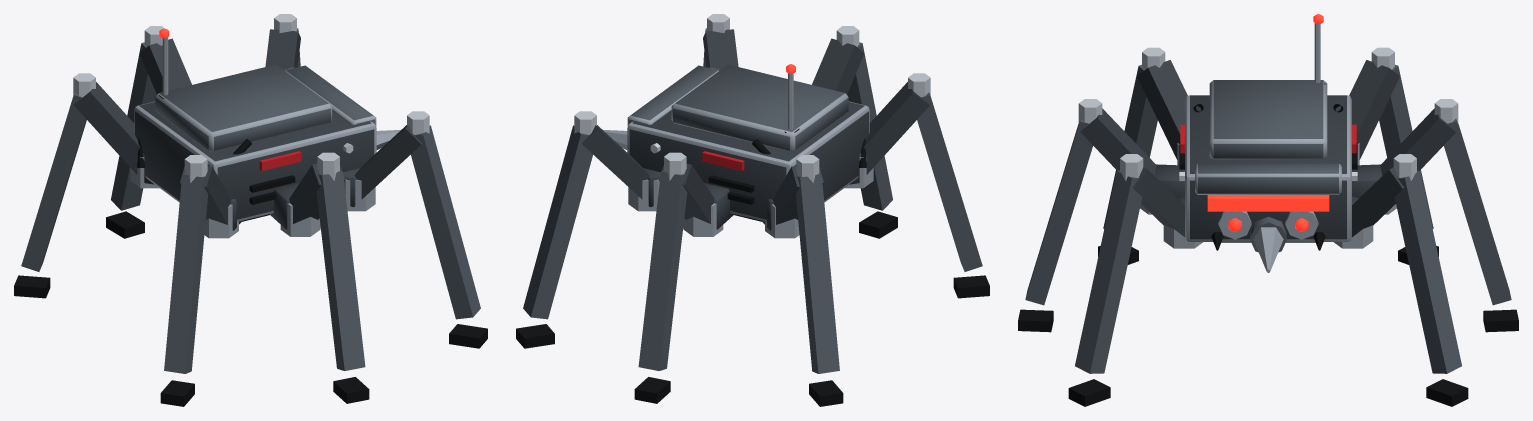
The model's file is enemigo_aranita.glb.
3 renders of one model, left to right at view 1: azimuth 30°, elevation 25°; view 2: azimuth 150°, elevation 25°; view 3: azimuth 270°, elevation 25°, orthographic. The views are drawn at different scales.
Visible parts, largest first — view 1: casco, lomo, mov_pata_2, mov_pata_4, mov_pata_6, mov_pata_5, mov_pata_3, ceja, mov_pata_1, hombrera_4, franja_1; view 2: casco, lomo, mov_pata_1, mov_pata_3, mov_pata_5, mov_pata_6, mov_pata_4, ceja, mov_pata_2, hombrera_3, franja_2; view 3: mov_pata_1, mov_pata_2, lomo, casco, mov_pata_3, mov_pata_4, mov_pata_5, mov_pata_6, ceja, visor, aguijon, hombrera_3 (+4 smaller).
Boxes of the visible parts, bbox=[...] form: casco: bbox=[134, 67, 376, 221]; lomo: bbox=[155, 64, 332, 151]; mov_pata_2: bbox=[344, 111, 487, 348]; mov_pata_4: bbox=[280, 152, 369, 403]; mov_pata_6: bbox=[160, 155, 238, 406]; mov_pata_5: bbox=[14, 73, 159, 298]; mov_pata_3: bbox=[106, 26, 191, 238]; ceja: bbox=[285, 65, 376, 126]; mov_pata_1: bbox=[265, 14, 300, 69]; hombrera_4: bbox=[270, 183, 299, 229]; franja_1: bbox=[259, 151, 301, 170]; casco: bbox=[627, 67, 869, 221]; lomo: bbox=[671, 64, 848, 151]; mov_pata_1: bbox=[516, 111, 659, 348]; mov_pata_3: bbox=[634, 152, 723, 403]; mov_pata_5: bbox=[765, 155, 843, 406]; mov_pata_6: bbox=[844, 73, 989, 298]; mov_pata_4: bbox=[812, 26, 897, 238]; ceja: bbox=[627, 65, 718, 126]; mov_pata_2: bbox=[703, 14, 738, 69]; hombrera_3: bbox=[704, 183, 733, 229]; franja_2: bbox=[702, 151, 744, 170]; mov_pata_1: bbox=[1334, 154, 1468, 406]; mov_pata_2: bbox=[1068, 154, 1202, 406]; lomo: bbox=[1209, 80, 1327, 159]; casco: bbox=[1185, 95, 1351, 241]; mov_pata_3: bbox=[1380, 99, 1518, 332]; mov_pata_4: bbox=[1018, 99, 1156, 332]; mov_pata_5: bbox=[1349, 47, 1438, 264]; mov_pata_6: bbox=[1098, 47, 1187, 264]; ceja: bbox=[1195, 163, 1341, 194]; visor: bbox=[1207, 195, 1329, 211]; aguijon: bbox=[1253, 227, 1283, 272]; hombrera_3: bbox=[1352, 164, 1382, 198].
Size of the model in its own units: 0.3957 by 0.323 by 0.5103.
